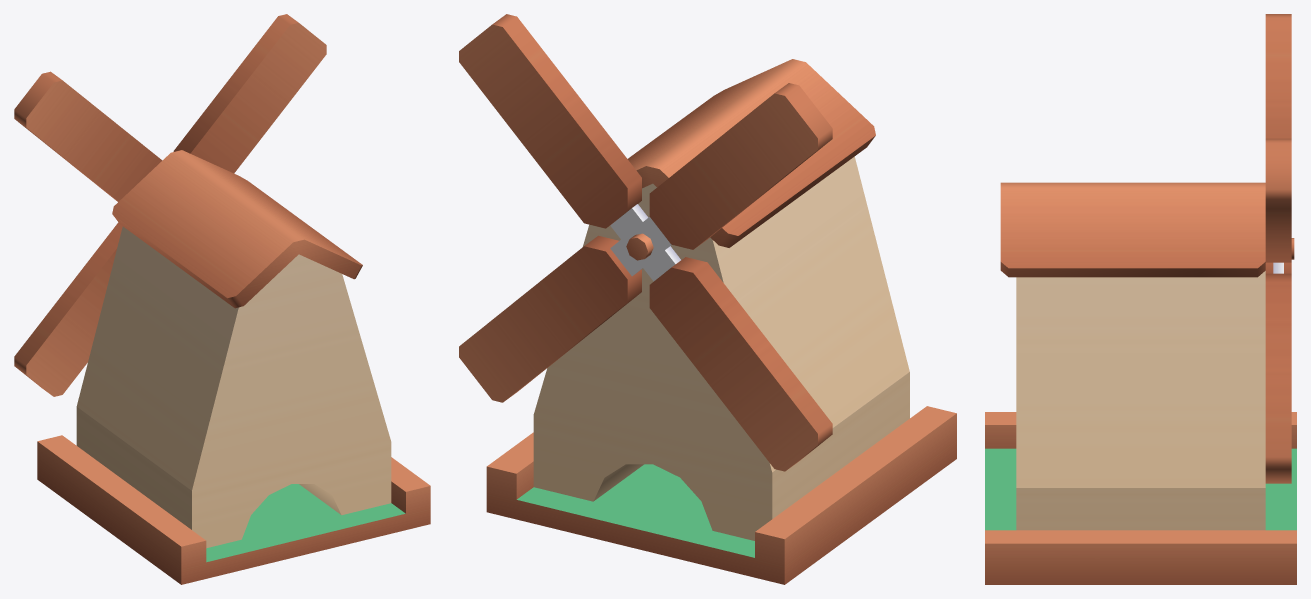
File: windmill.glb
3 views of the same model, side by side, from view 1: azimuth 30°, elevation 25°; view 2: azimuth 150°, elevation 25°; view 3: azimuth 270°, elevation 25° (orthographic). The views are drawn at different scales.
Visible parts, largest first — view 1: windmill; view 2: windmill; view 3: windmill.
Boxes of the visible parts, x1,y1,x2,y2 form: windmill: (14, 14, 430, 584); windmill: (459, 14, 956, 584); windmill: (985, 14, 1296, 584).
Bounding box in the file's own units: 1.2 × 1.56 × 0.9999.
1 material, 1 textured.
